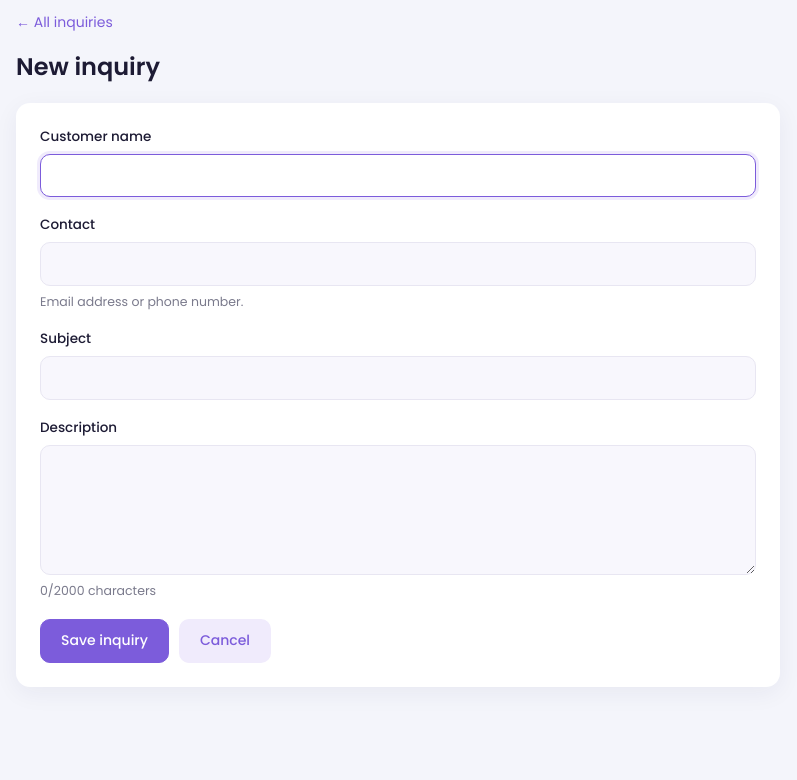
it: NewInquiryPage › shows an error next to each missing field and does not call the API
Type "not-a-contact" into the field labelled "Contact". click: point(398, 264)
box: x1=40 y1=242 x2=756 y2=286
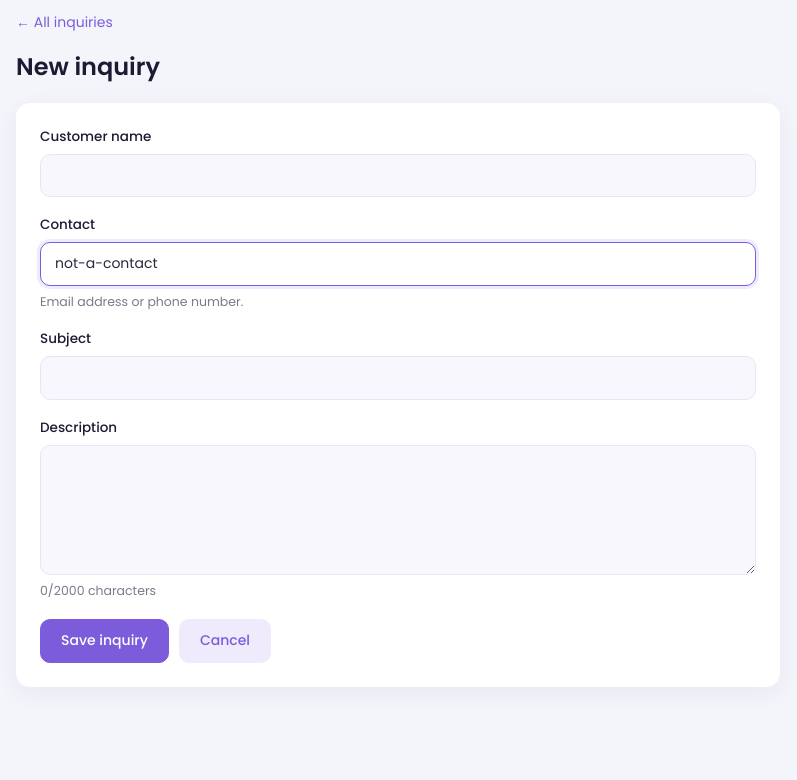
Click the button "Save inquiry". click: point(104, 641)
box: x1=40 y1=619 x2=169 y2=662
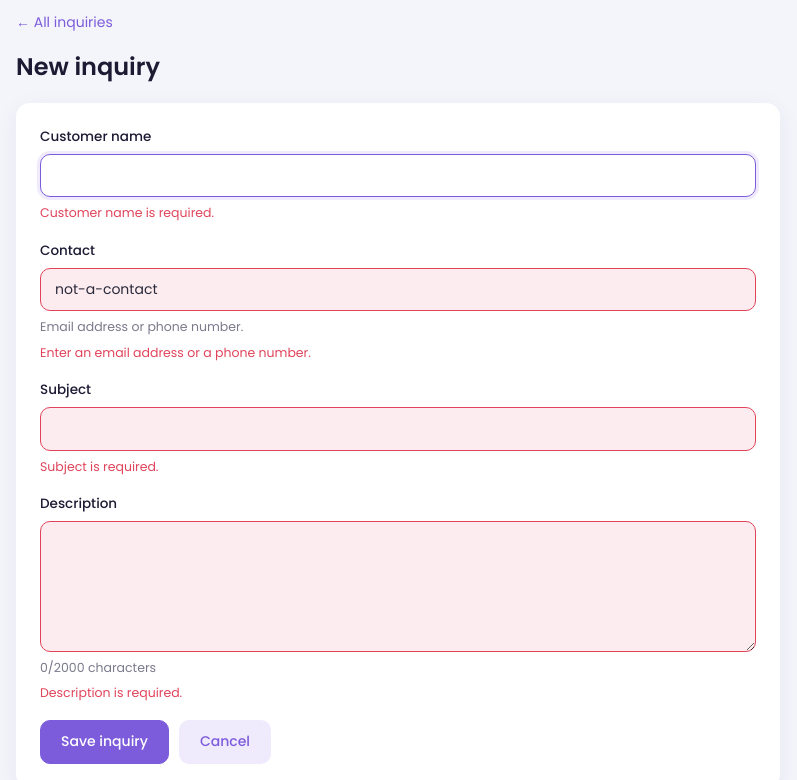
Now the text "Customer name is required." is shown, box x1=40 y1=204 x2=214 y2=222
Now the text "Enter an email address or a phone number." is shown, box x1=40 y1=344 x2=311 y2=361
Now the text "Subject is required." is shown, box x1=40 y1=458 x2=158 y2=475
